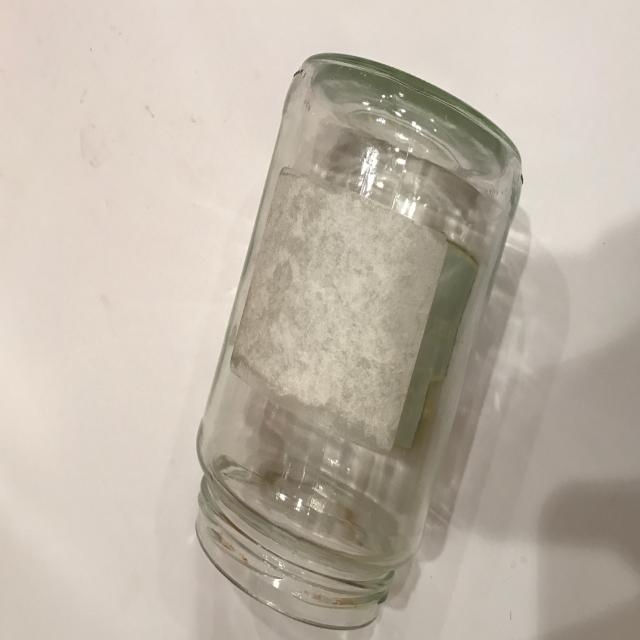glass: (193, 50, 524, 630)
